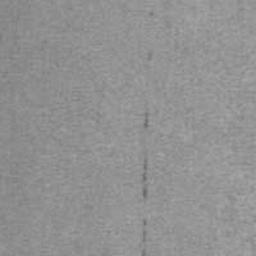Inclusion: (141, 154, 148, 198), (141, 219, 148, 243), (142, 113, 150, 128), (146, 52, 154, 63), (141, 248, 146, 256)
